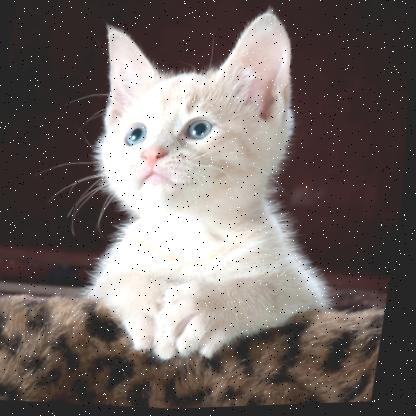cat: (25, 0, 379, 379)
